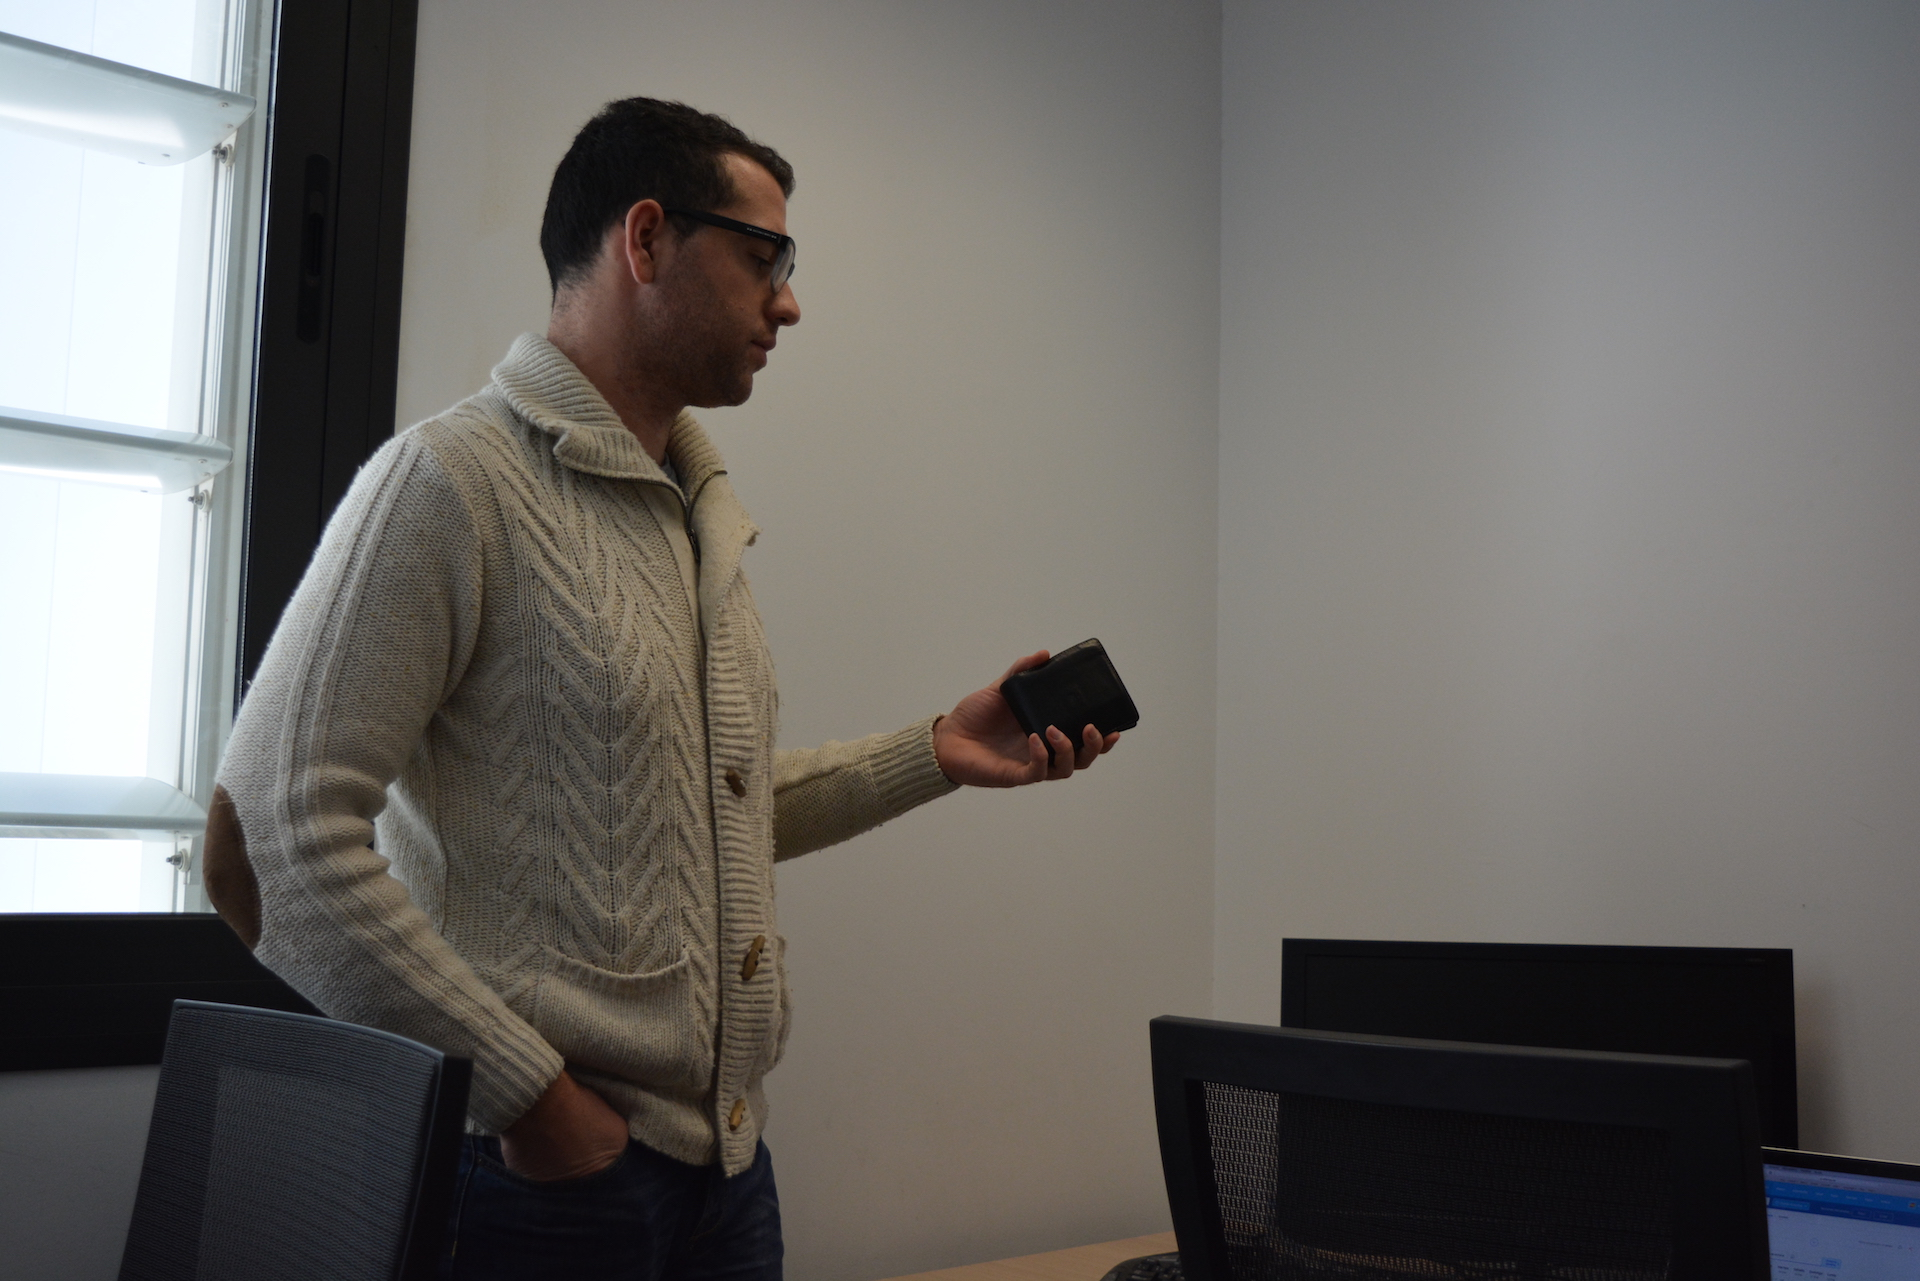monedero: (999, 638, 1139, 766)
